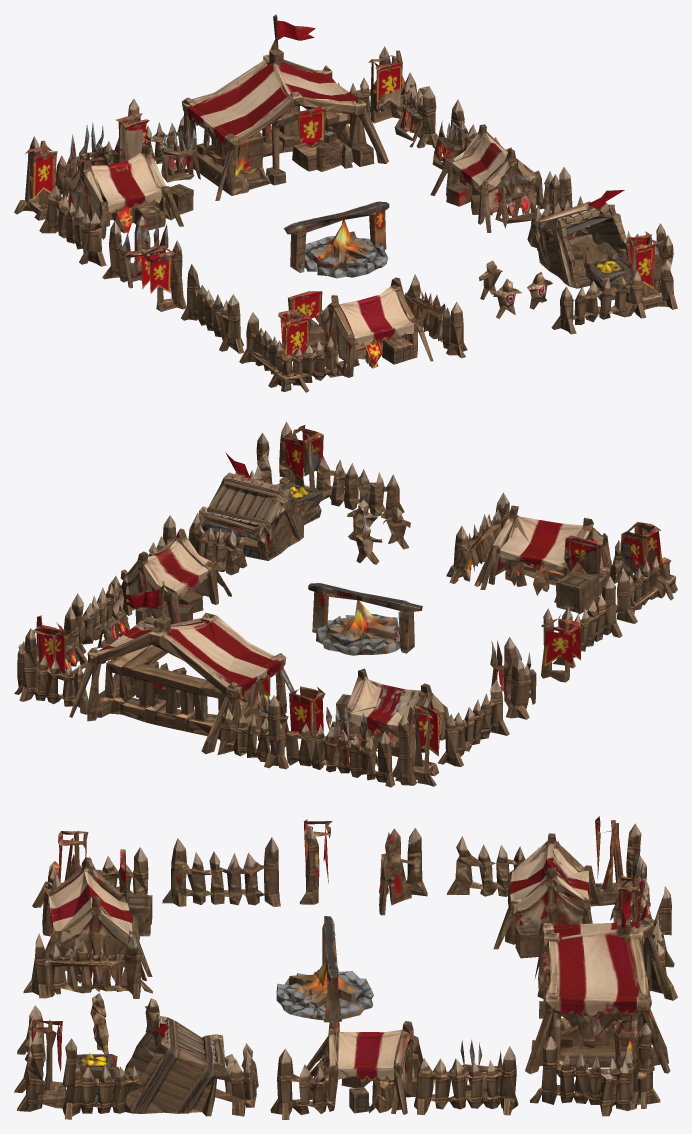
Rendered from barracks level 1.glb.
3 renders of one model, top to bottom at view 1: azimuth 30°, elevation 25°; view 2: azimuth 150°, elevation 25°; view 3: azimuth 270°, elevation 25°, orthographic. The views are drawn at different scales.
Visible parts, largest first — view 1: output_unwrapped; view 2: output_unwrapped; view 3: output_unwrapped.
Boxes of the visible parts, bbox=[...] form: output_unwrapped: bbox=[14, 14, 677, 392]; output_unwrapped: bbox=[14, 421, 677, 787]; output_unwrapped: bbox=[14, 816, 677, 1119].
Bounding box in the file's own units: 1.61 × 0.4922 × 1.92.
1 material, 1 textured.
